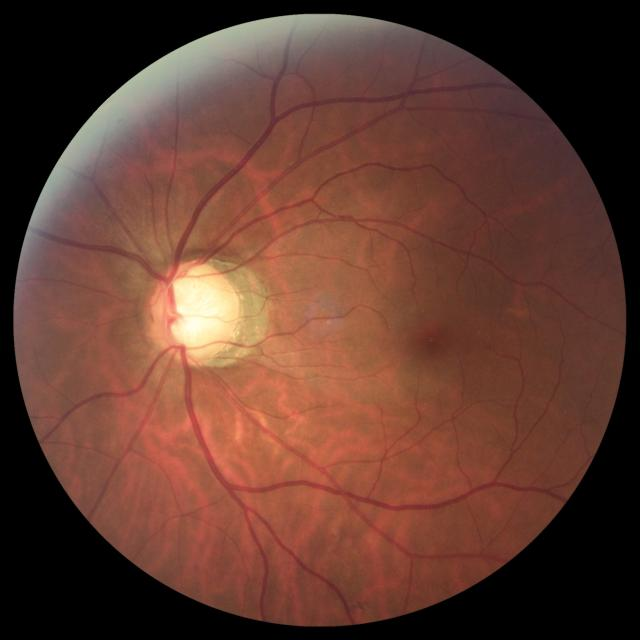OC: (166, 272, 226, 350)
OD: (149, 261, 242, 363)
